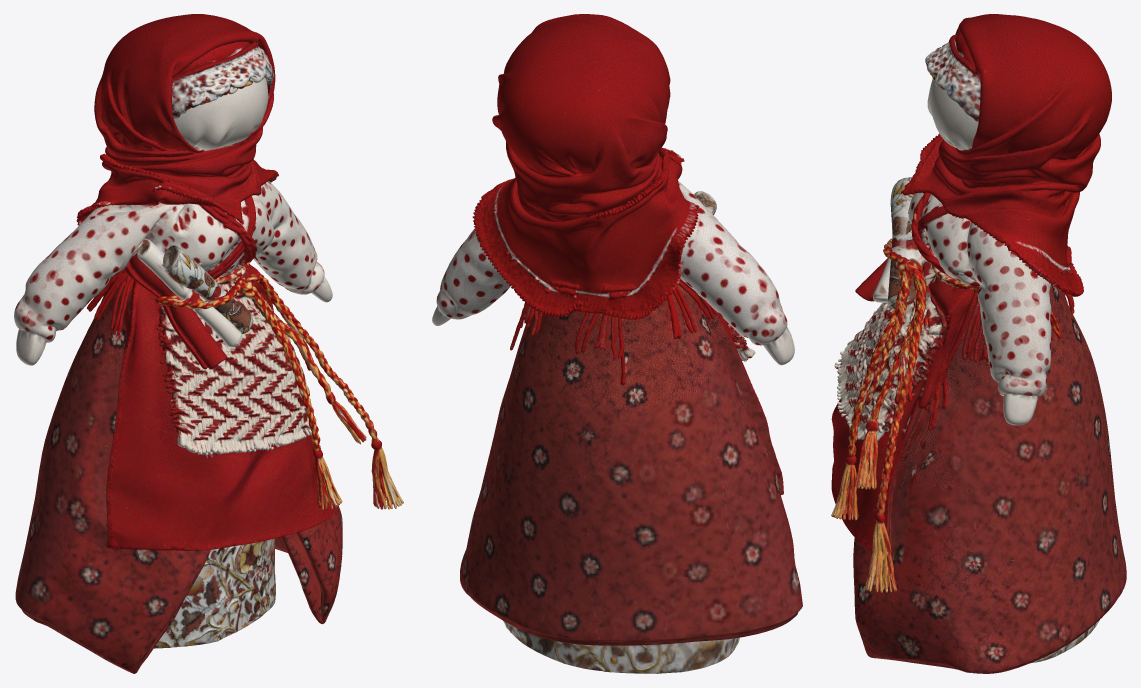
Rendered from belaya-folk-fabric-v2.glb.
3 views of the same model, side by side, from view 1: azimuth 30°, elevation 25°; view 2: azimuth 150°, elevation 25°; view 3: azimuth 270°, elevation 25° (orthographic). The views are drawn at different scales.
Parts seen in each view (by area): view 1: Doll — 10 cm; view 2: Doll — 10 cm; view 3: Doll — 10 cm.
Boxes of the visible parts, x1,y1,x2,y2 form: Doll — 10 cm: (14,14,403,673); Doll — 10 cm: (432,14,802,673); Doll — 10 cm: (831,14,1126,673).
Size of the model in its own units: 0.0605 by 0.1 by 0.0442.
1 material, 1 textured.
